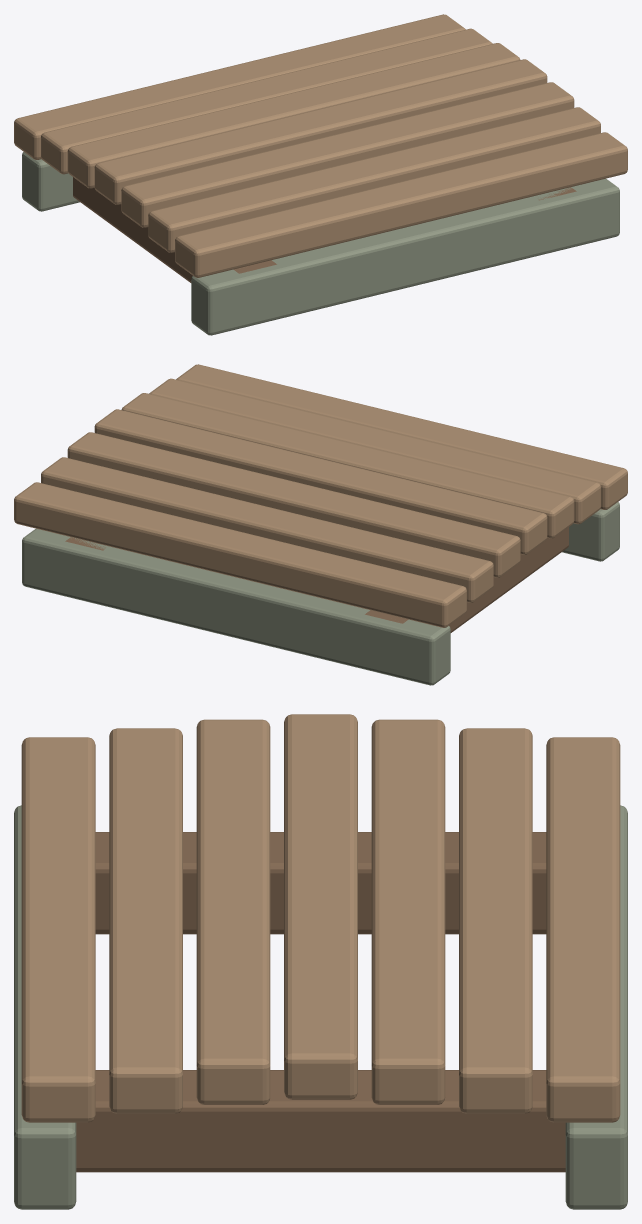
Rendered from woodland-bridge-01.glb.
The picture shows the model from 3 angles, top to bottom: view 1: azimuth 30°, elevation 25°; view 2: azimuth 150°, elevation 25°; view 3: azimuth 270°, elevation 25°; orthographic projection. The views are drawn at different scales.
Parts seen in each view (by area): view 1: woodland-bridge-01; view 2: woodland-bridge-01; view 3: woodland-bridge-01.
Part boxes in pixels (x1=…): woodland-bridge-01: x1=14, y1=14, x2=627, y2=335; woodland-bridge-01: x1=14, y1=364, x2=627, y2=685; woodland-bridge-01: x1=14, y1=714, x2=627, y2=1209.
Size of the model in its own units: 0.42 by 0.093 by 0.316.
